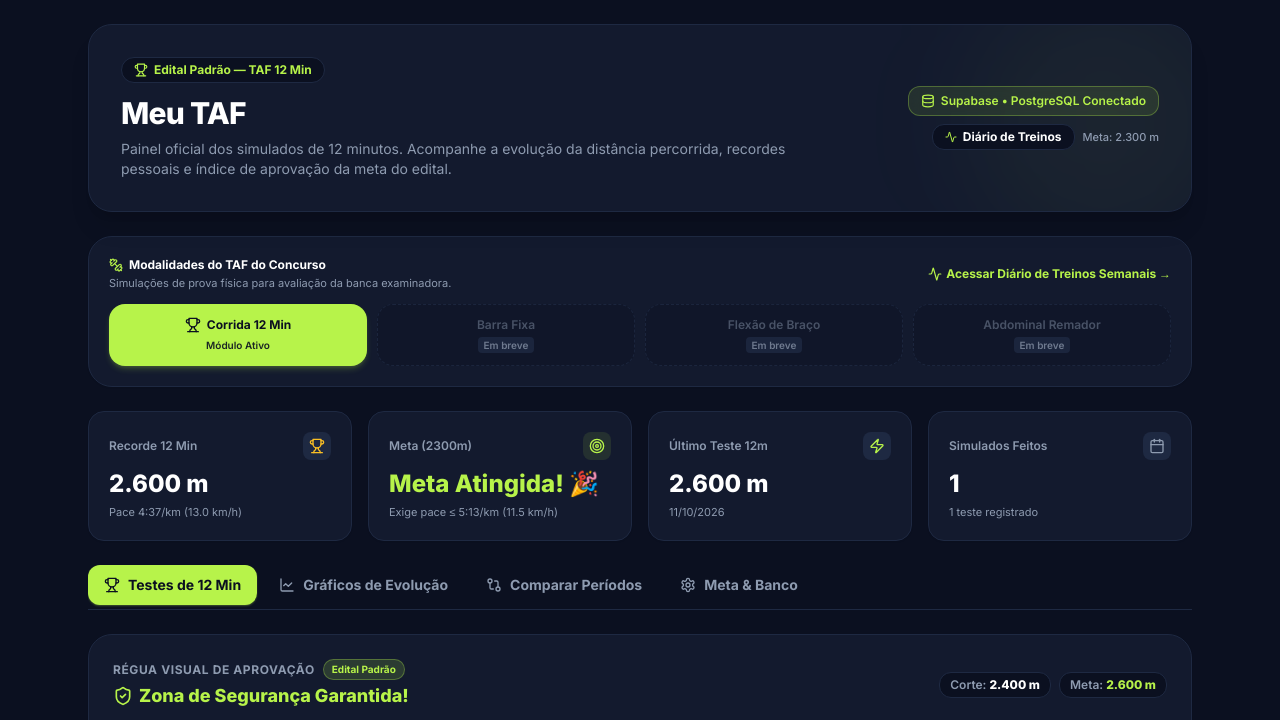
Test: Fase 6 — Frontend & UX: Sincronização Google Sheets › 4. Painel Configurações Google Sheets em GoalAndBackupSettings › integra /meu-taf aba Meta & Banco invalidando caches e recarregando dados após sync
Click the button "Meta & Banco" at (739, 585), box [664,565,814,605]
(page scrolled)
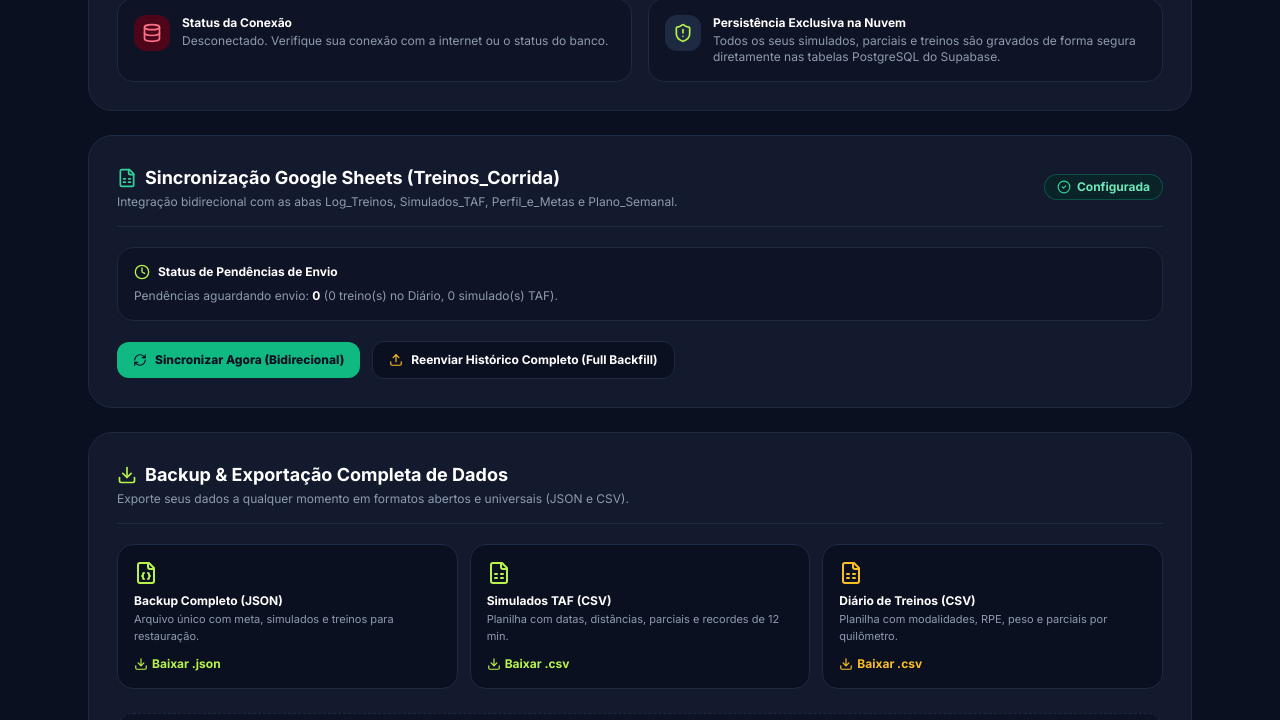
Now the button with test id "settings-sync-sheets-btn" is shown
Click the button with test id "settings-sync-sheets-btn" at (239, 360), box [117,342,360,378]
(page scrolled)
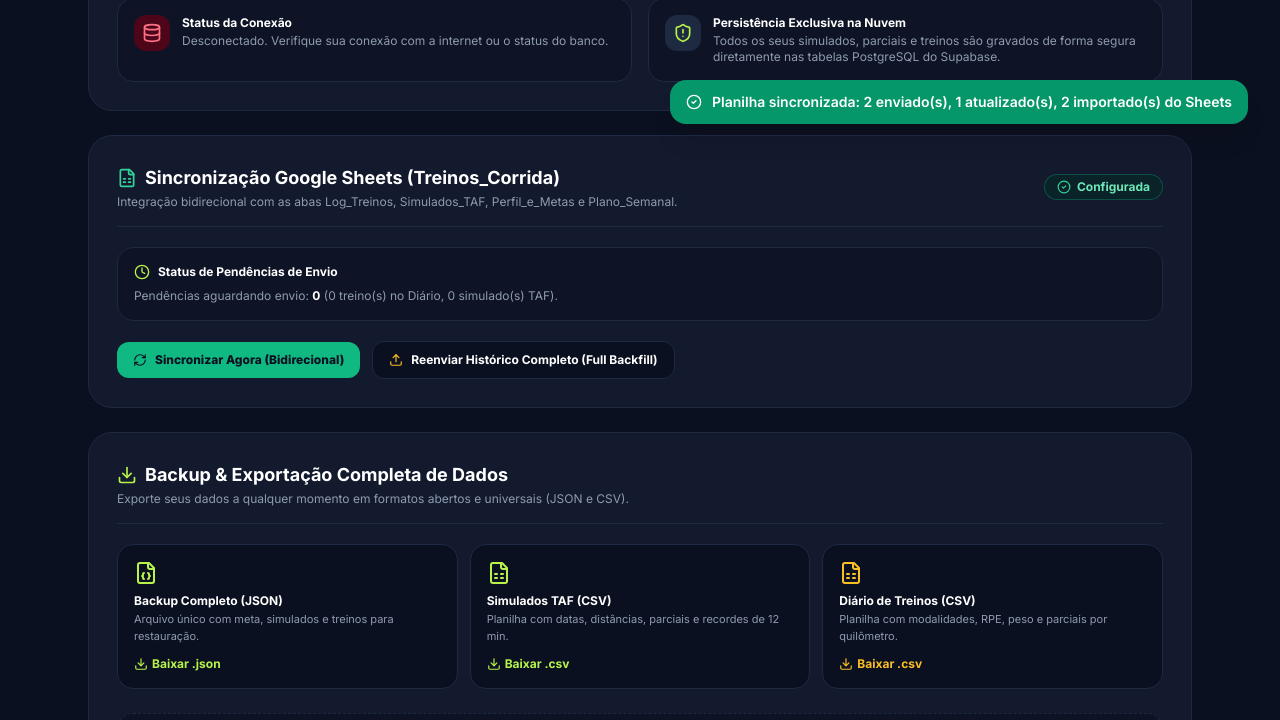
Now the element with test id "toast-notification" shows "Planilha sincronizada:", box [712,93,1232,110]
